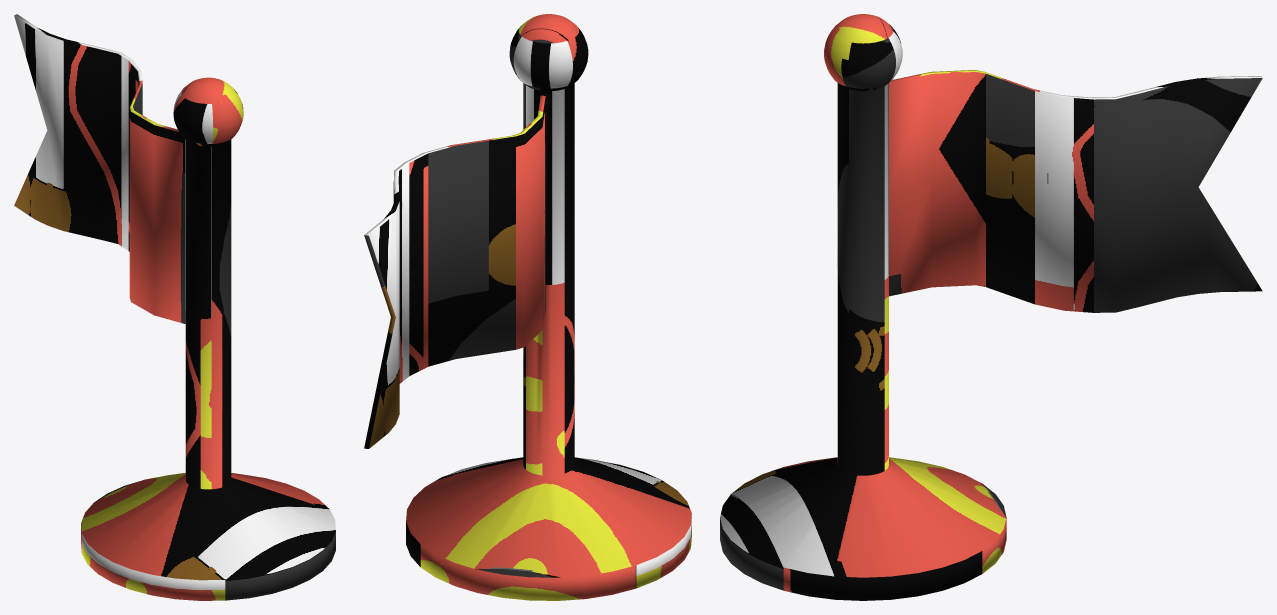
File: flag_rably.obj
The picture shows the model from 3 angles, left to right: view 1: azimuth 30°, elevation 25°; view 2: azimuth 150°, elevation 25°; view 3: azimuth 270°, elevation 25°; orthographic projection. The views are drawn at different scales.
Visible parts, largest first — view 1: 円; view 2: 円; view 3: 円.
Boxes of the visible parts, x1,y1,x2,y2 form: 円: (14,14,335,600); 円: (364,14,691,600); 円: (720,14,1262,600).
Size of the model in its own units: 1.34 by 2.7 by 2.54.
Materials: 1 (1 with a texture image).
